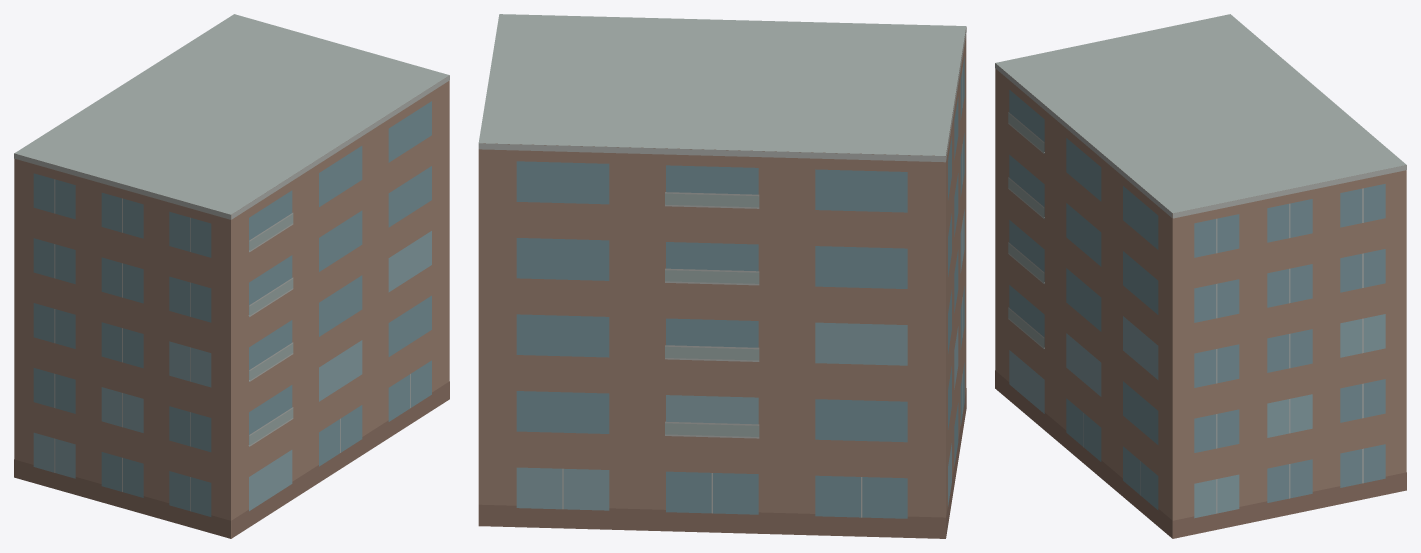
Rendered from survey-upis-32920796.glb.
3 views of the same model, side by side, from view 1: azimuth 30°, elevation 25°; view 2: azimuth 150°, elevation 25°; view 3: azimuth 270°, elevation 25° (orthographic). The views are drawn at different scales.
Visible parts, largest first — view 1: survey-upis-32920796.tmp; view 2: survey-upis-32920796.tmp; view 3: survey-upis-32920796.tmp.
Boxes of the visible parts, x1,y1,x2,y2 form: survey-upis-32920796.tmp: (14,14,449,538); survey-upis-32920796.tmp: (478,14,966,538); survey-upis-32920796.tmp: (995,14,1406,538).
Size of the model in its own units: 20.04 by 15.25 by 17.49.
